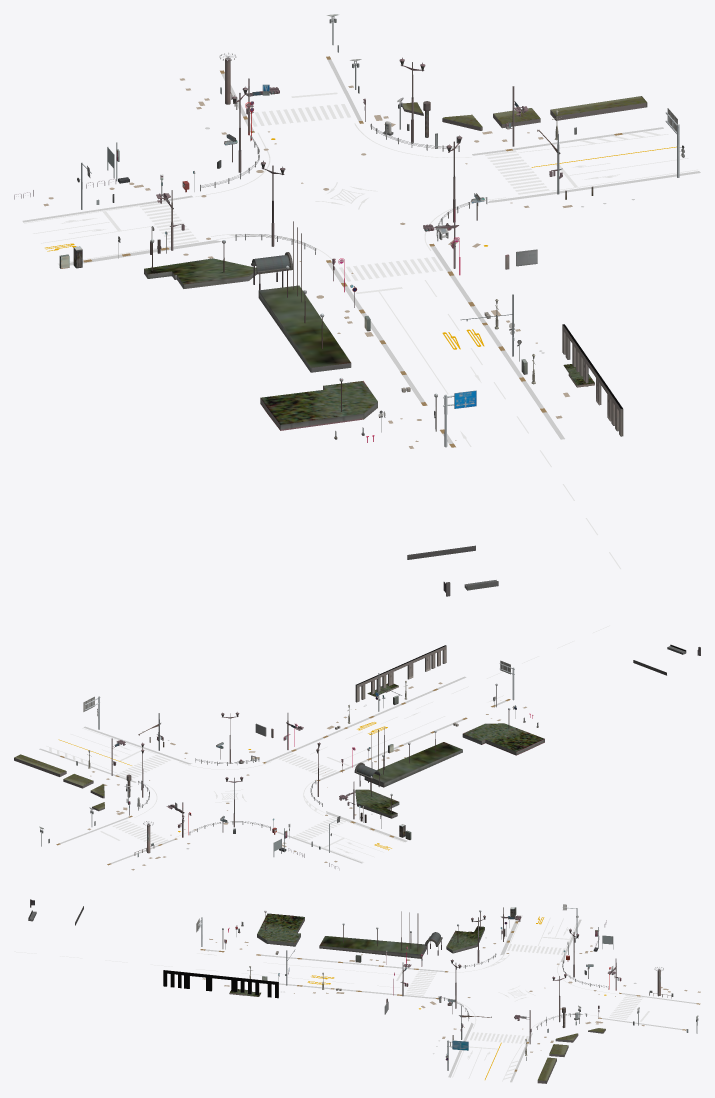
The model's file is frn--14.glb.
3 renders of one model, top to bottom at view 1: azimuth 30°, elevation 25°; view 2: azimuth 150°, elevation 25°; view 3: azimuth 270°, elevation 25°, orthographic. The views are drawn at different scales.
Size of the model in its own units: 91.48 by 12.41 by 147.
2 materials, 1 textured.
